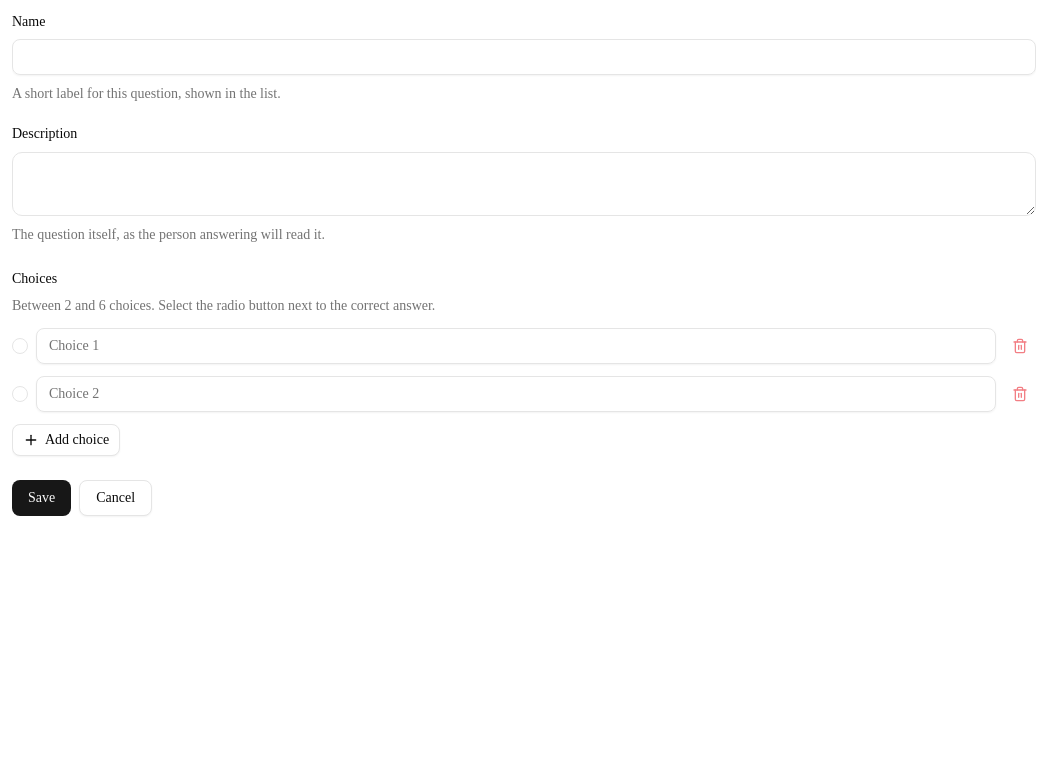
Scenario: McqForm choice editor › cannot go above the maximum, so Add choice is disabled at six rows
The width and height of the screenshot is (1048, 780).
Click the button "Add choice". click: click(66, 440)
box: [12,424,120,456]
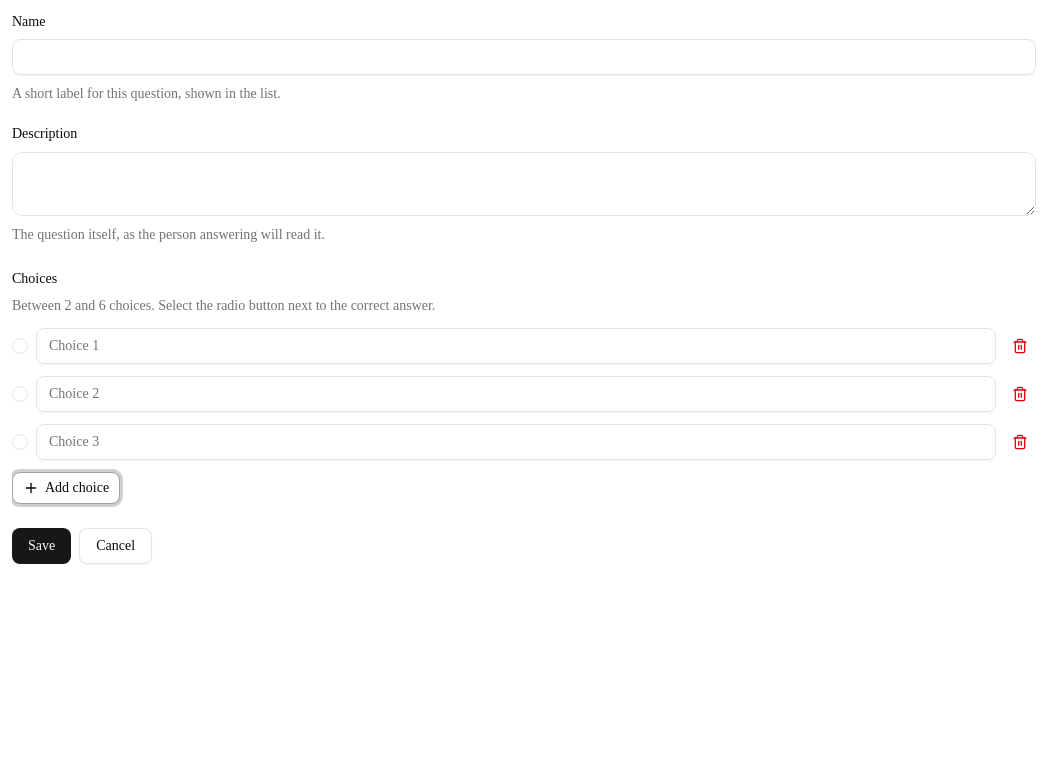
Click the button "Add choice". click: click(66, 488)
box: [12,472,120,504]
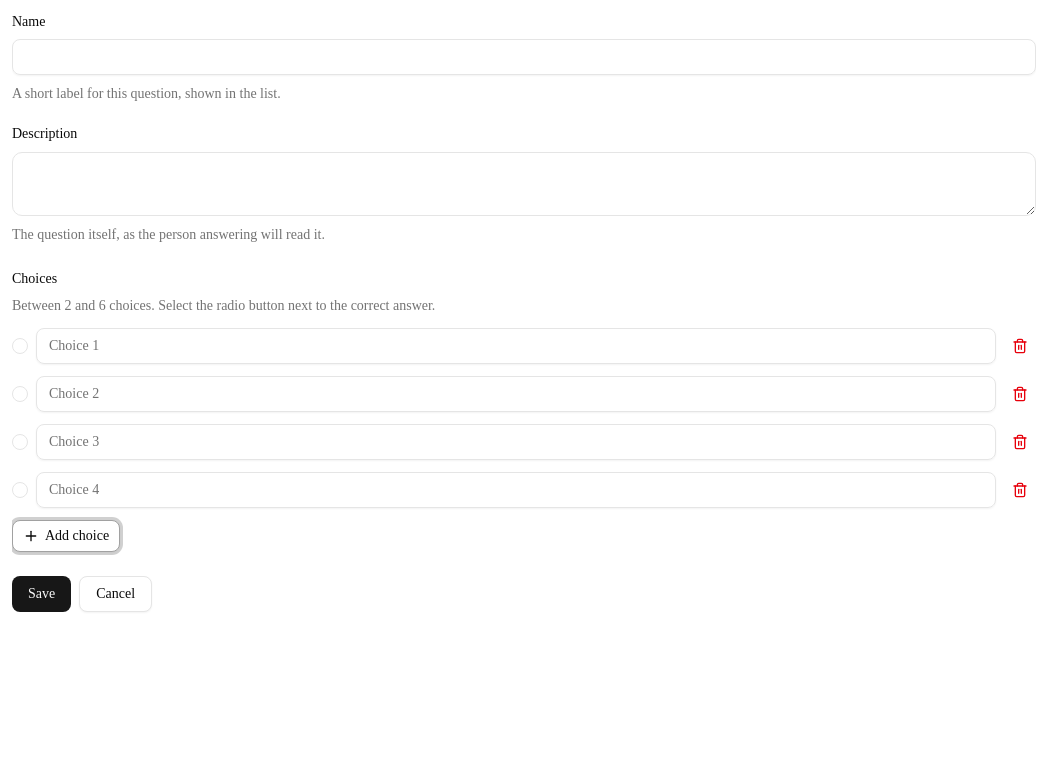
Click the button "Add choice". click: click(66, 536)
box: [12,520,120,552]
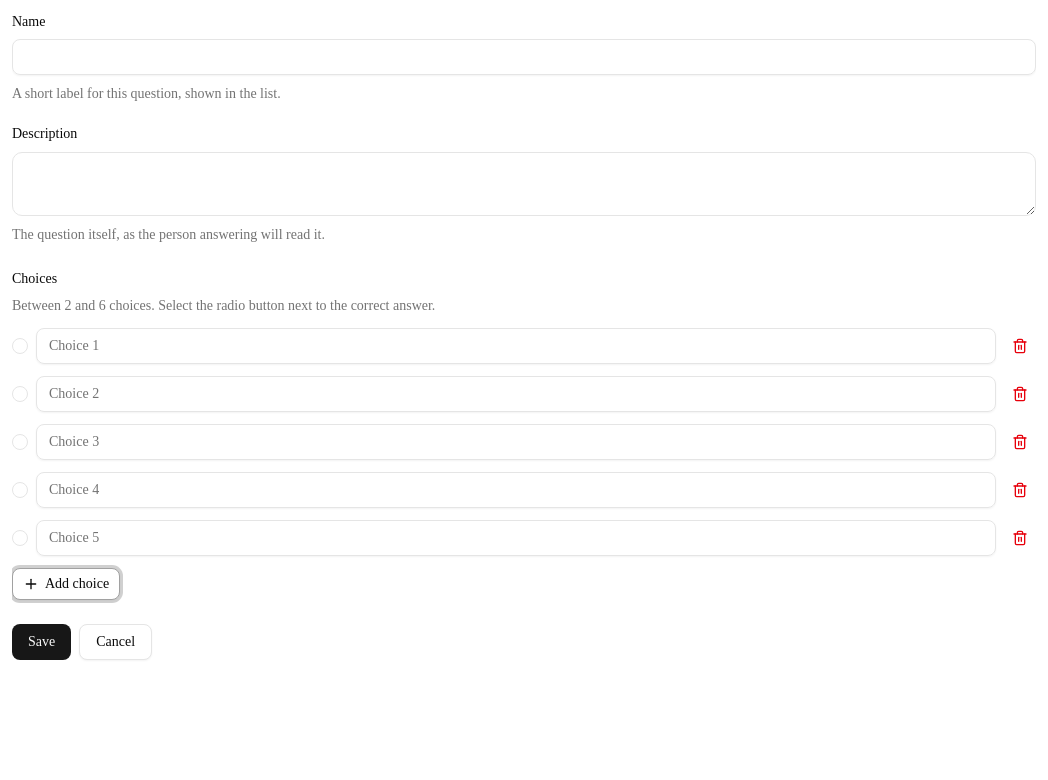
Click the button "Add choice". click: click(66, 584)
box: [12,568,120,600]
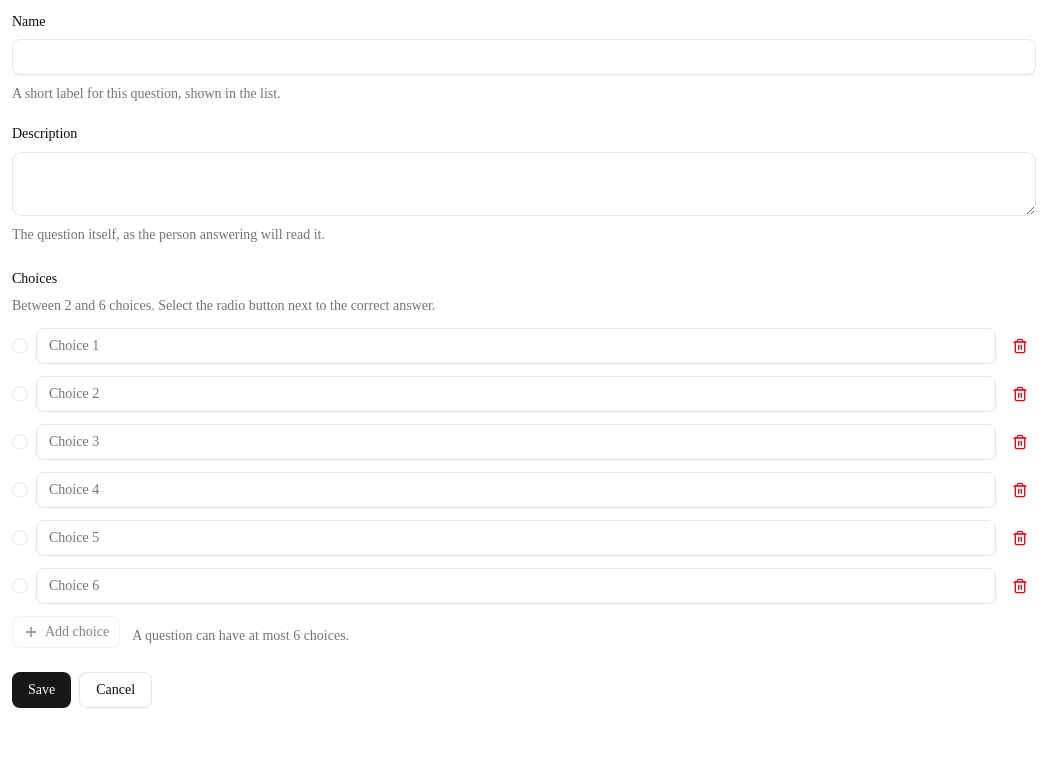
Check: the number of fields labelled "Choice 1" is 6, box [36,328,996,364]; [36,376,996,412]; [36,424,996,460]; [36,472,996,508]; [36,520,996,556]; [36,568,996,604]
Check: the button "Add choice" is disabled, box [12,616,120,648]
